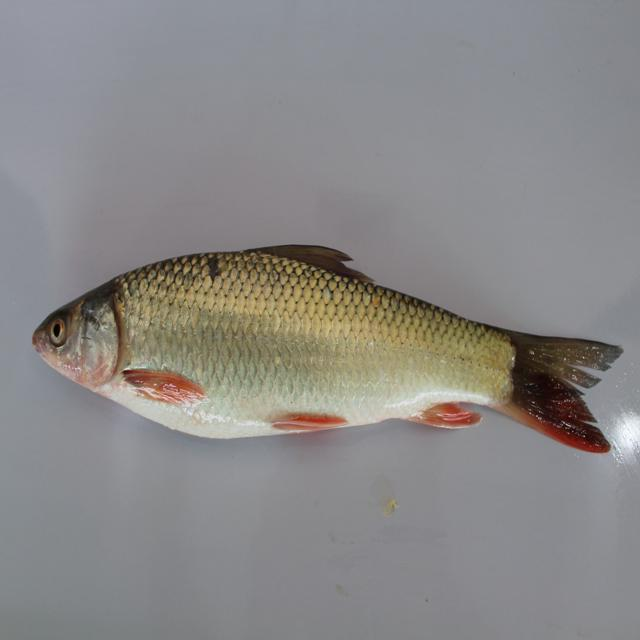Mori: (36, 229, 615, 504)
